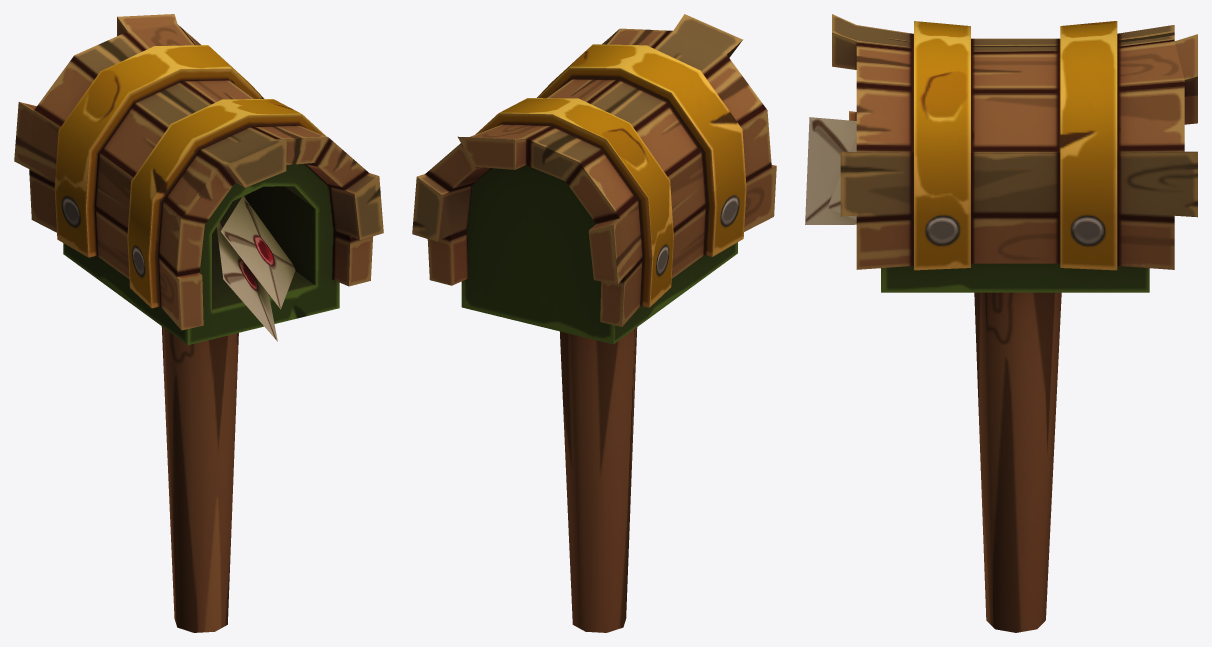
The model's file is building_11.FBX.
3 views of the same model, side by side, from view 1: azimuth 30°, elevation 25°; view 2: azimuth 150°, elevation 25°; view 3: azimuth 270°, elevation 25° (orthographic). The views are drawn at different scales.
Parts seen in each view (by area): view 1: Cylinder001; view 2: Cylinder001; view 3: Cylinder001.
Part boxes in pixels (x1,y1,x2,y2): Cylinder001: (14, 14, 383, 632); Cylinder001: (412, 14, 776, 632); Cylinder001: (805, 14, 1197, 632).
Bounding box in the file's own units: 176 × 446 × 270.
